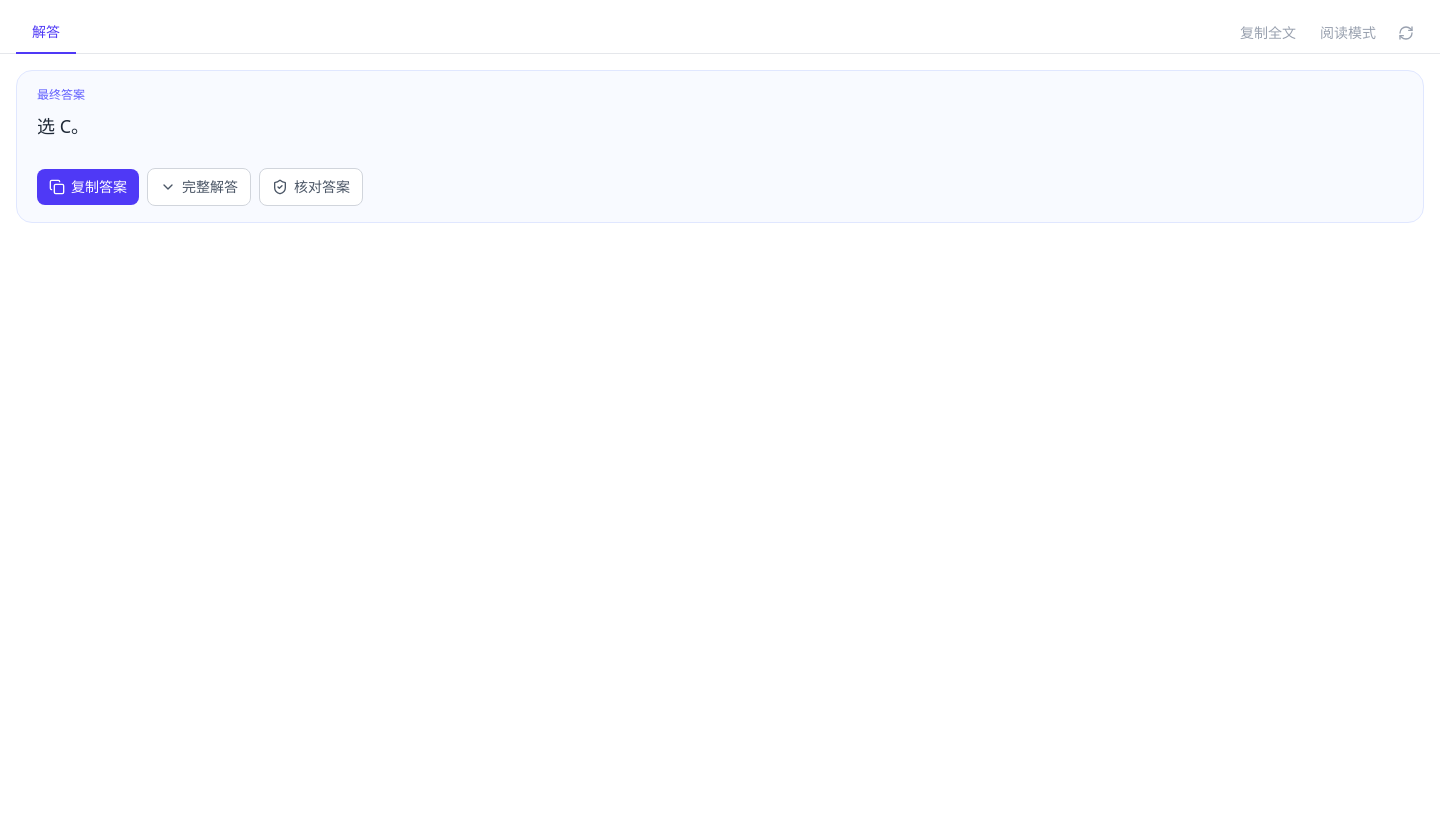
Test: OutputPanel 排版 › 完整解答里不展示 YAML 元信息，正文照常保留
Click the button "完整解答" at (199, 187), box [147, 168, 251, 206]
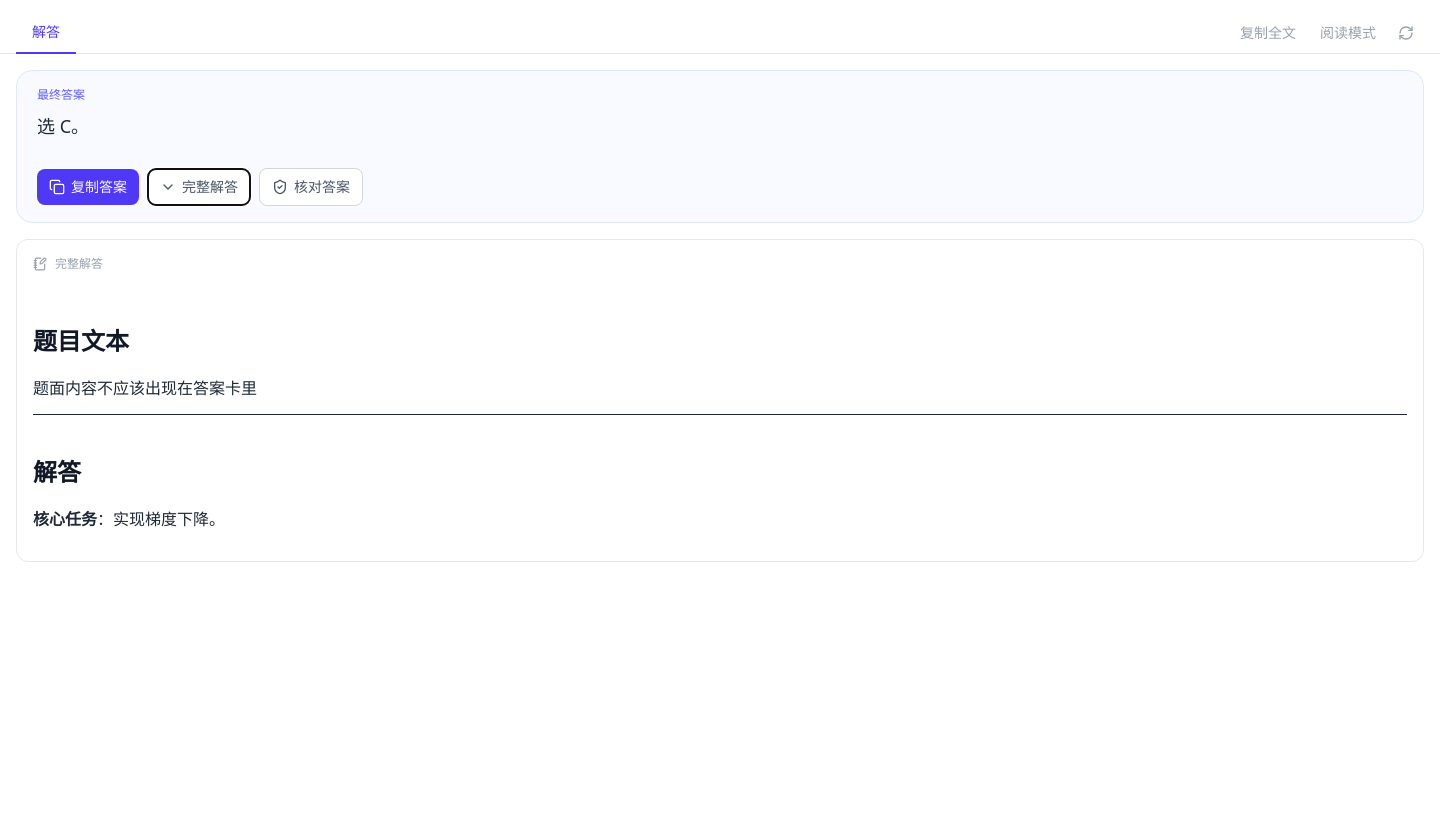
Expected: the text "核心任务" is shown, [33, 508, 97, 530]
